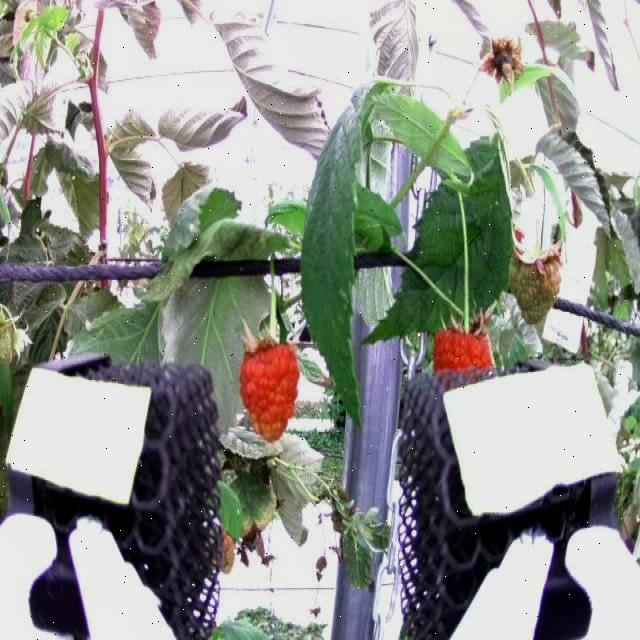Riped berries: (238, 320, 306, 446), (430, 314, 493, 383)
